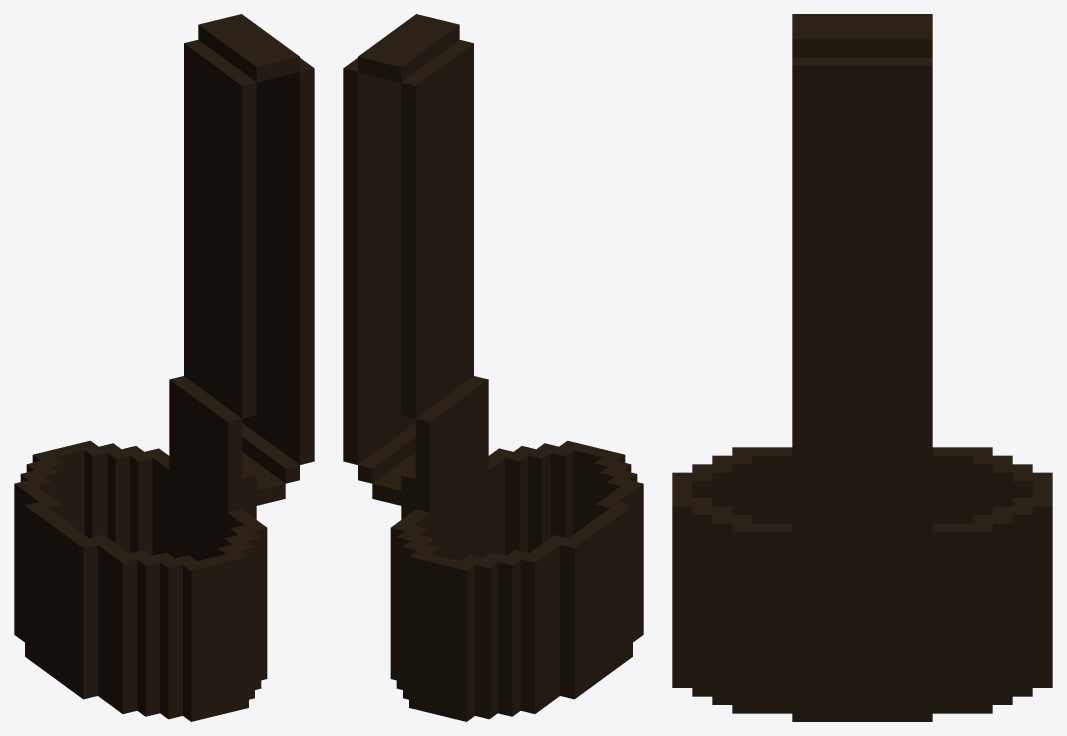
The model's file is Axe_Loop_Leather_Large.obj.
3 views of the same model, side by side, from view 1: azimuth 30°, elevation 25°; view 2: azimuth 150°, elevation 25°; view 3: azimuth 270°, elevation 25° (orthographic). The views are drawn at different scales.
Bounding box in the file's own units: 1.6 × 3.9 × 1.9.
1 material, 1 textured.
